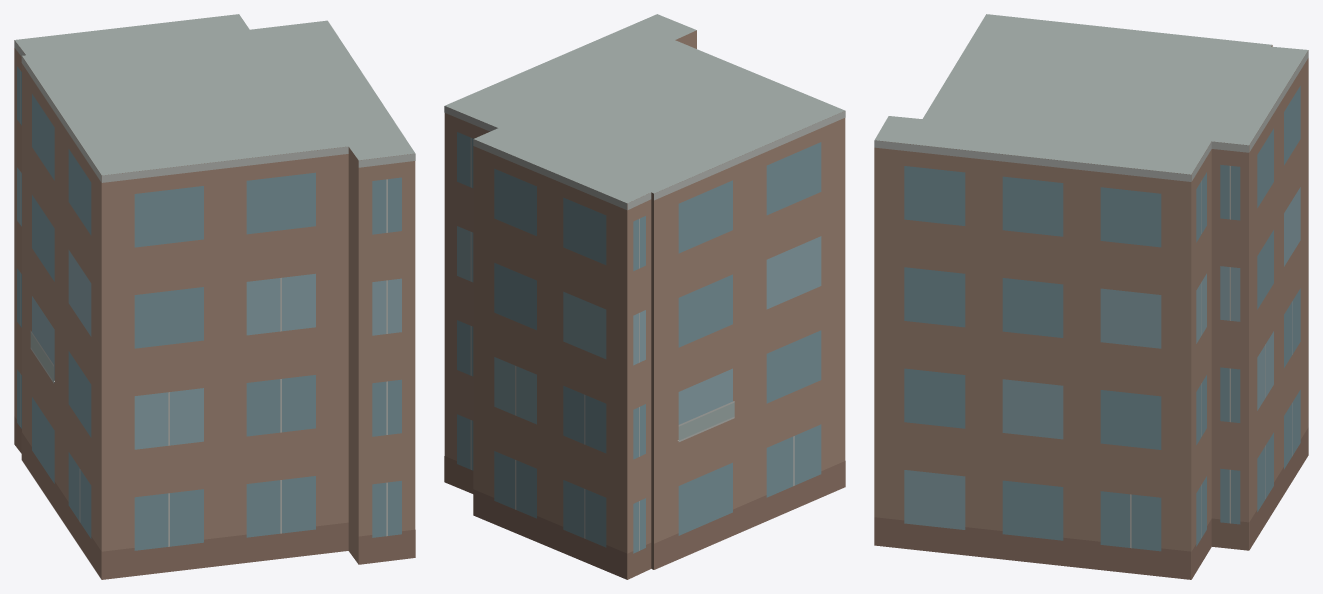
Rendered from survey-upis-33023870.glb.
The picture shows the model from 3 angles, left to right: view 1: azimuth 30°, elevation 25°; view 2: azimuth 150°, elevation 25°; view 3: azimuth 270°, elevation 25°; orthographic projection. The views are drawn at different scales.
Parts seen in each view (by area): view 1: survey-upis-33023870.tmp; view 2: survey-upis-33023870.tmp; view 3: survey-upis-33023870.tmp.
Part boxes in pixels (x1,y1,x2,y2): survey-upis-33023870.tmp: (14,14,415,579); survey-upis-33023870.tmp: (444,14,845,579); survey-upis-33023870.tmp: (874,14,1308,579).
Bounding box in the file's own units: 11.29 × 13.27 × 12.89.
